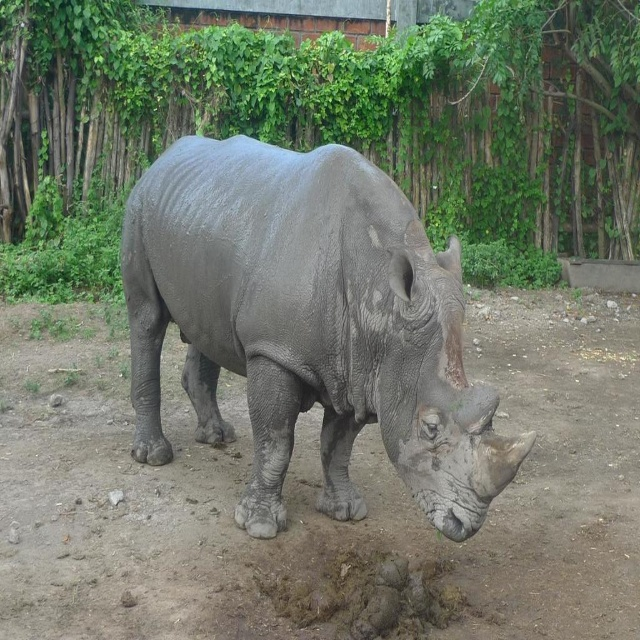Rhinoceros: (114, 130, 540, 545)
